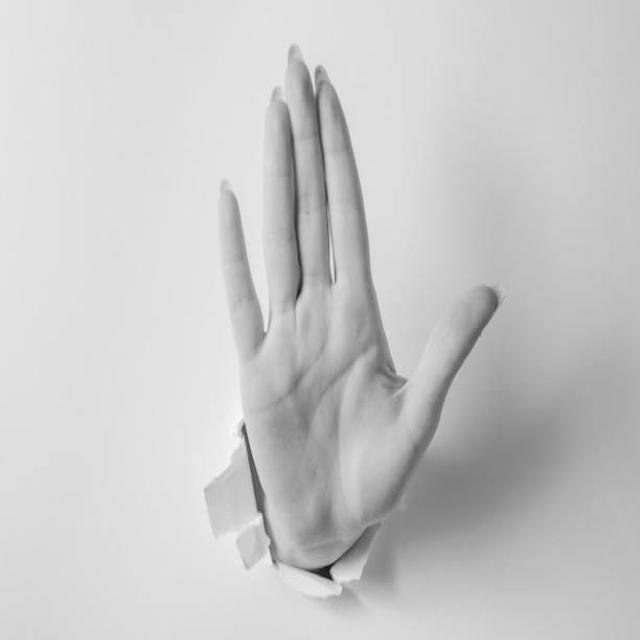stop: (212, 36, 511, 559)
